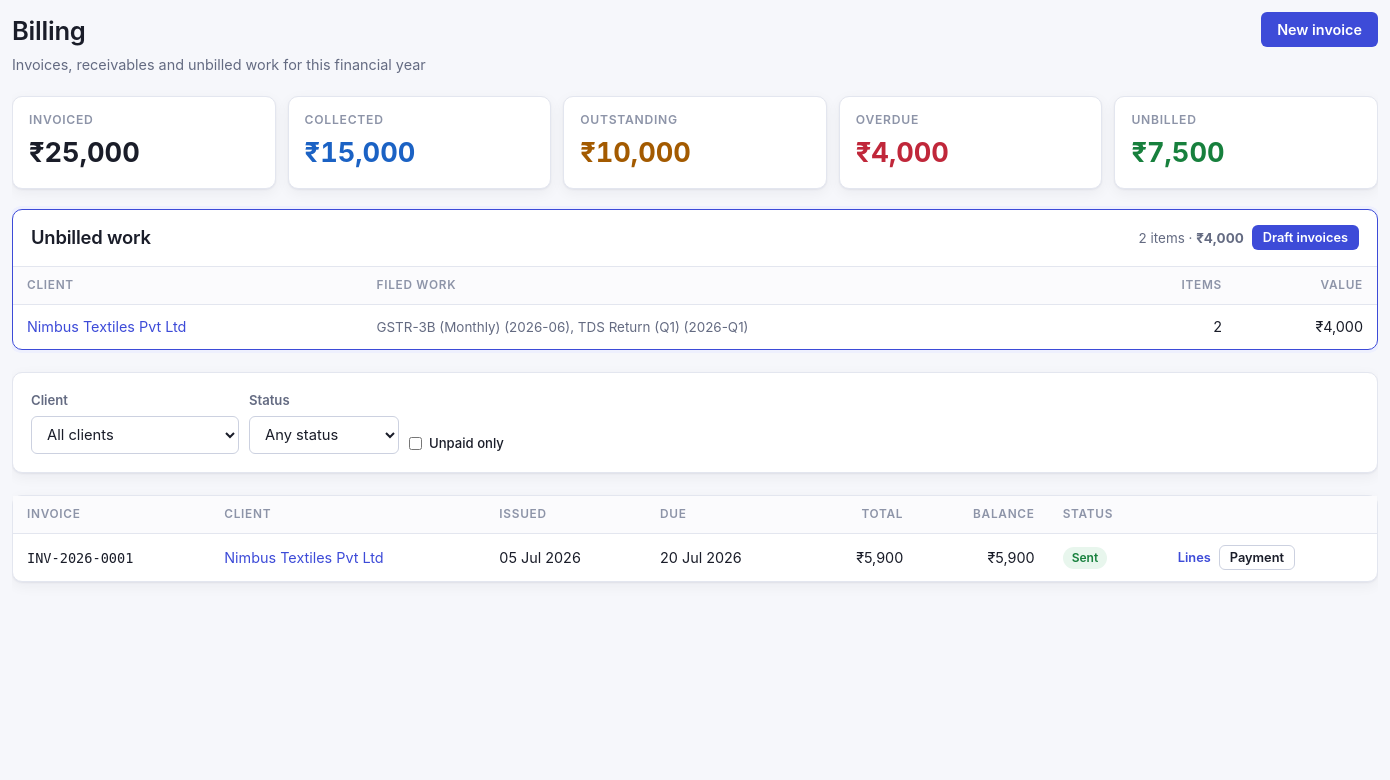
Test case: Billing — invoice lines › reports a failure to load the lines instead of leaving a spinner
Click the button "Lines".
click(1194, 558)  # box [1178,550,1211,566]
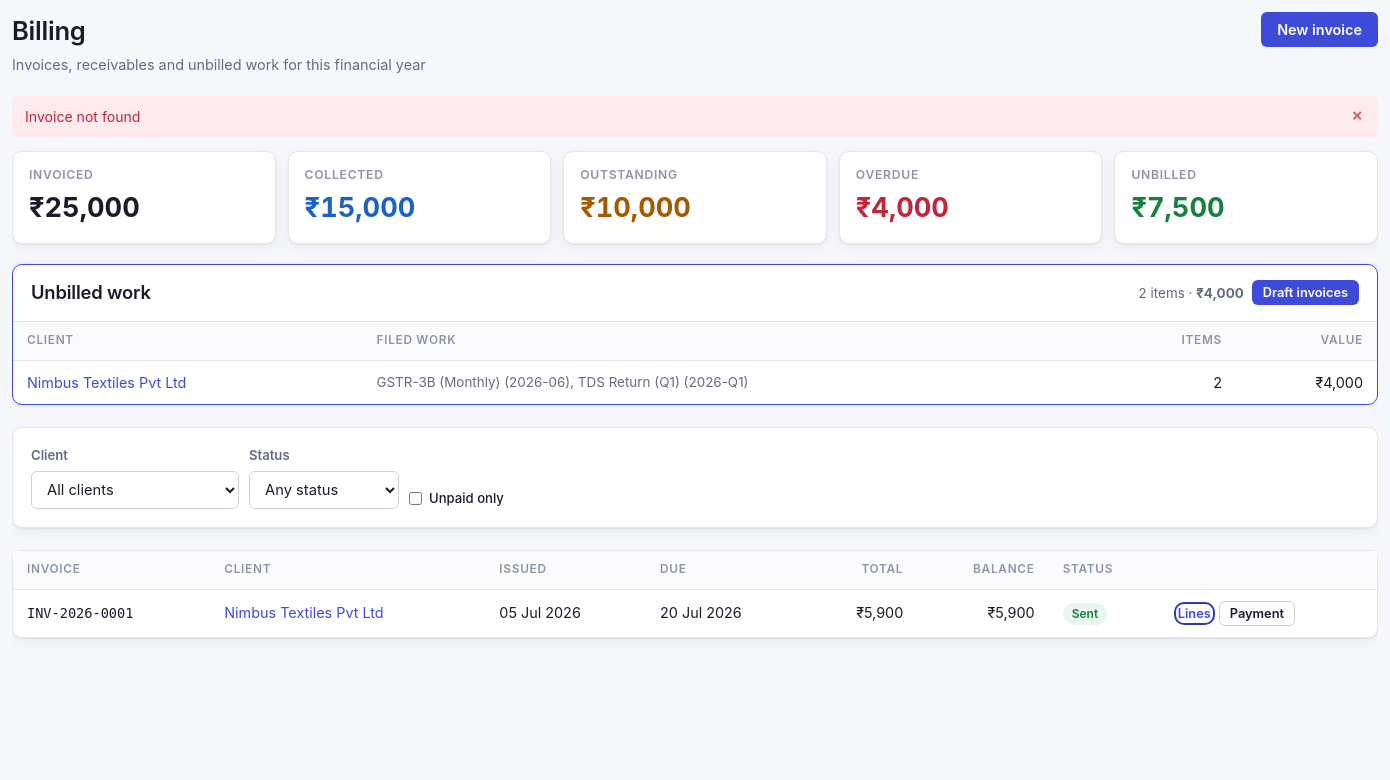
Check: the text "Invoice not found" is shown, box [25,106,140,127]
